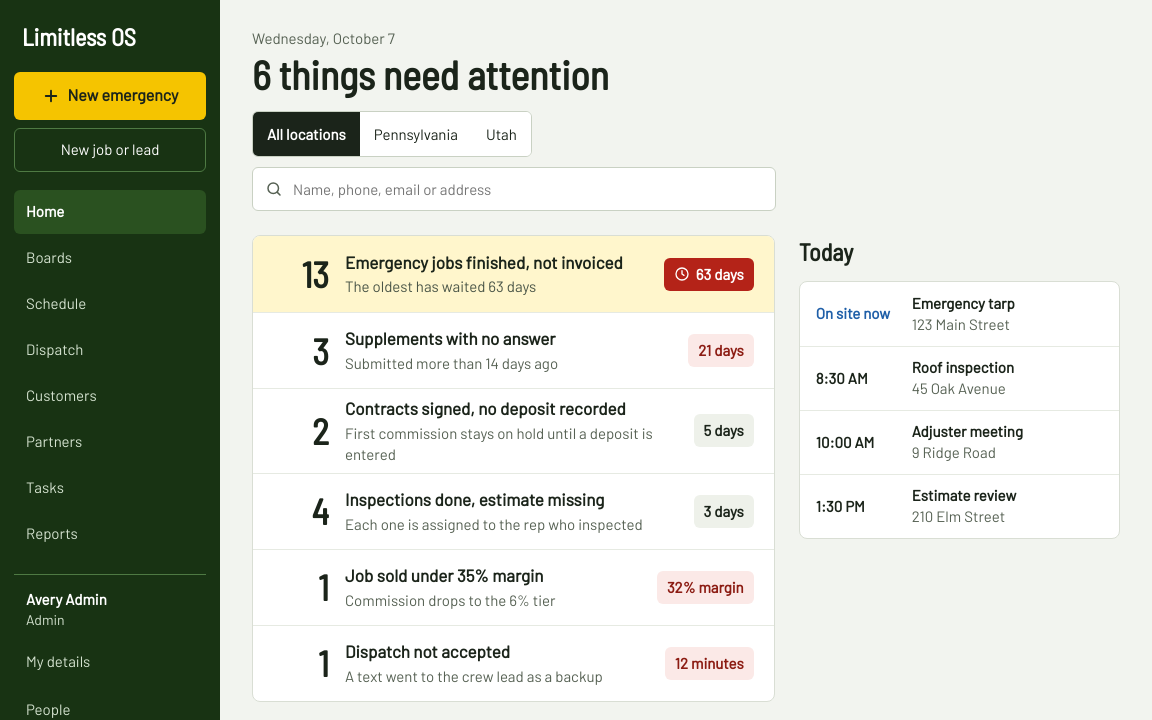
app shell › takes a search to the search screen
Type "Whitfield" into the search field named "Search" at (527, 189), box [291, 169, 763, 209]
Then press Enter
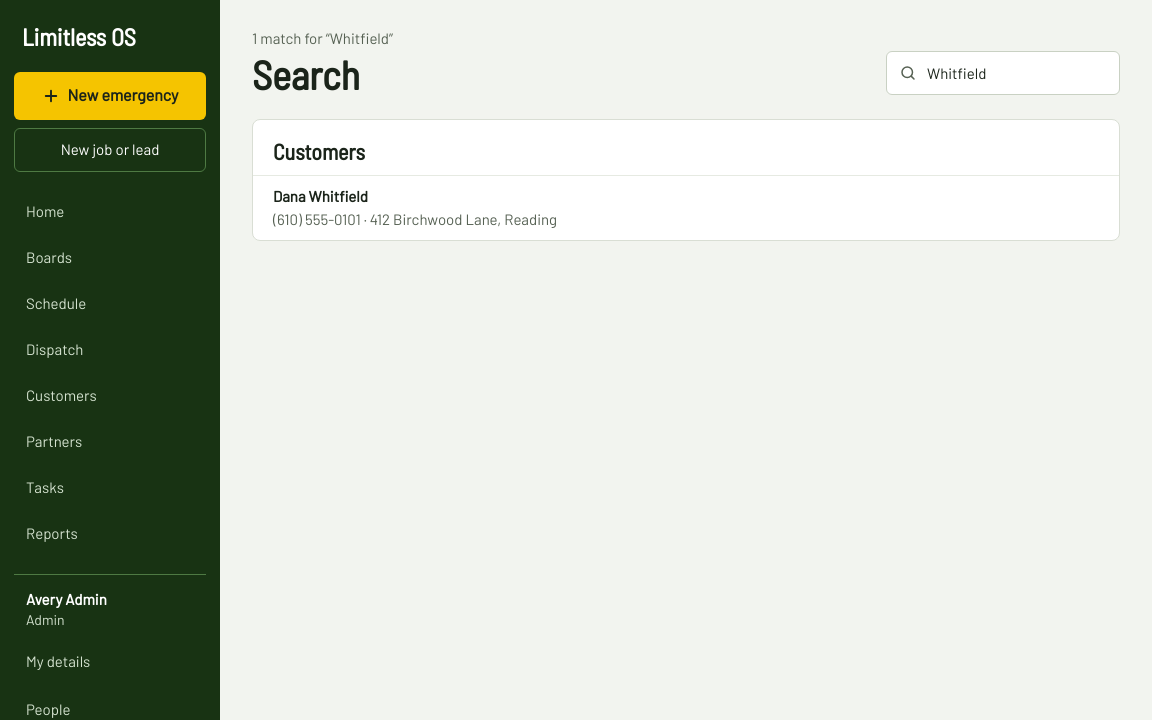
Expected: the link "Dana Whitfield (610) 555-0101 · 412 Birchwood Lane, Reading" is shown, [253, 175, 1119, 240]
